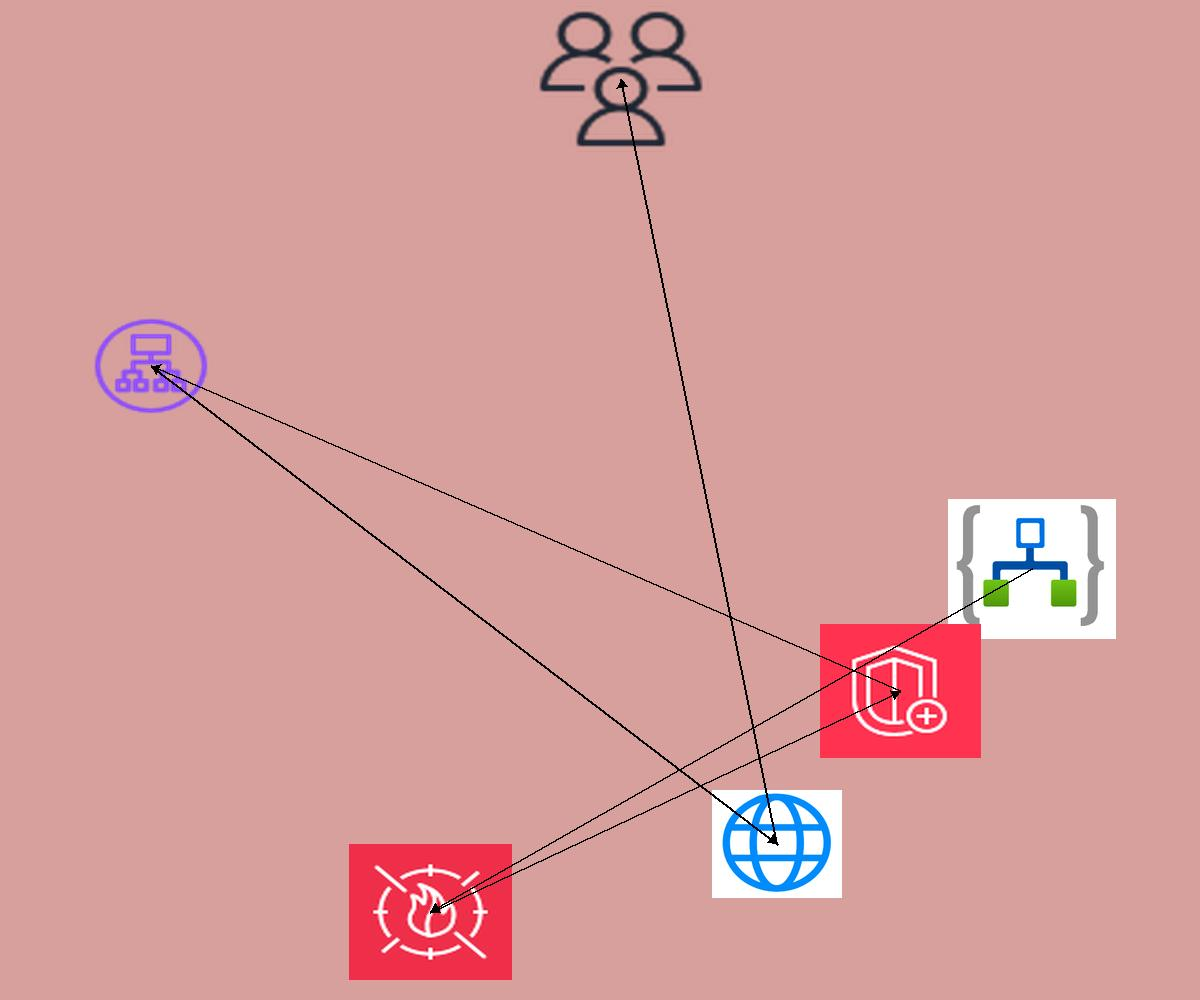AWS-Res_Elastic-Load-Balancing_Application-Load-Balancer: (90, 315, 212, 417)
AWS-Res_Users: (533, 6, 709, 152)
AWS-Shield: (820, 624, 981, 758)
AWS-WAF: (349, 844, 512, 980)
Azure_http: (712, 790, 842, 898)
Azure_integration-204-Logic-Apps: (948, 499, 1116, 639)
